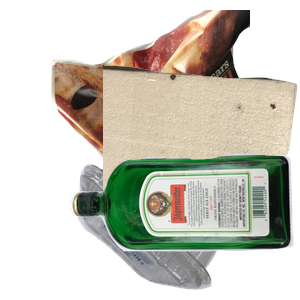glass: (67, 150, 300, 300)
paper: (49, 10, 289, 190)
plastic: (75, 147, 289, 300)
trash: (103, 62, 300, 242)
